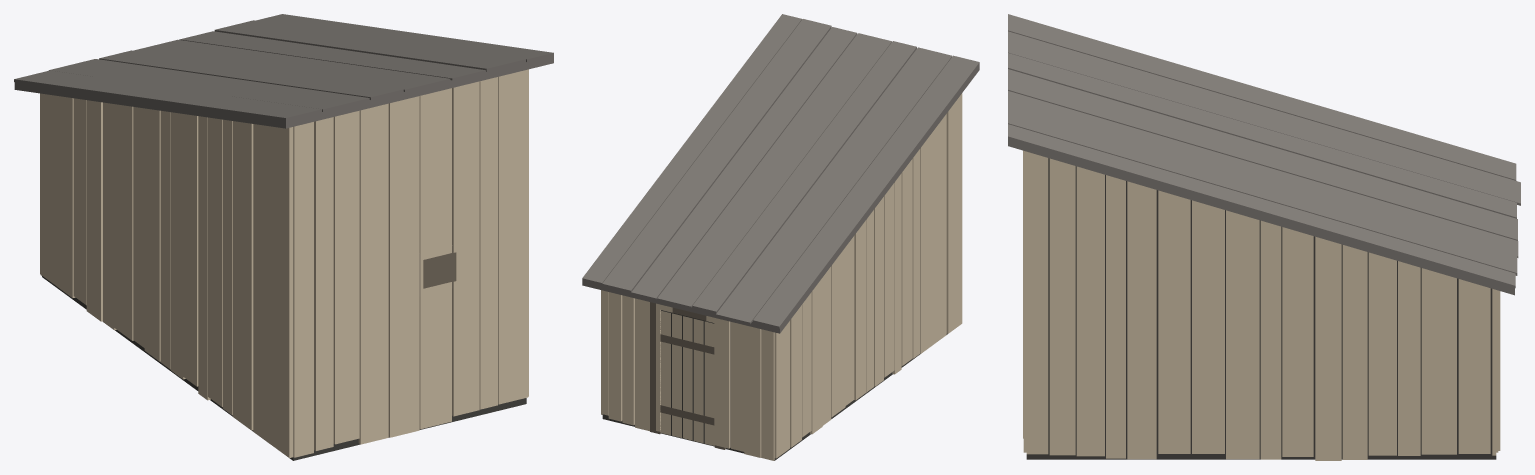
File: recon_1835_blk_randolph_wells_a4_10__inferred_1835.glb
3 renders of one model, left to right at view 1: azimuth 30°, elevation 25°; view 2: azimuth 150°, elevation 25°; view 3: azimuth 270°, elevation 25°, orthographic. The views are drawn at different scales.
Visible parts, largest first — view 1: recon_1835_blk_randolph_wells_a4_10__inferred_1835; view 2: recon_1835_blk_randolph_wells_a4_10__inferred_1835; view 3: recon_1835_blk_randolph_wells_a4_10__inferred_1835.
Boxes of the visible parts, box(x1,y1,x2,y2) form: recon_1835_blk_randolph_wells_a4_10__inferred_1835: box(14, 14, 553, 460); recon_1835_blk_randolph_wells_a4_10__inferred_1835: box(582, 14, 979, 460); recon_1835_blk_randolph_wells_a4_10__inferred_1835: box(1008, 14, 1520, 460).
Size of the model in its own units: 3.12 by 3.94 by 5.53.
